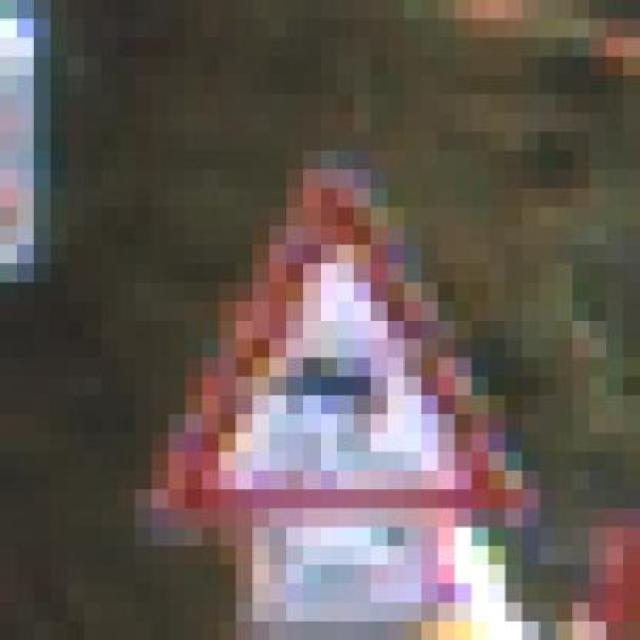Slippery Road Ahead: (118, 151, 573, 546)
